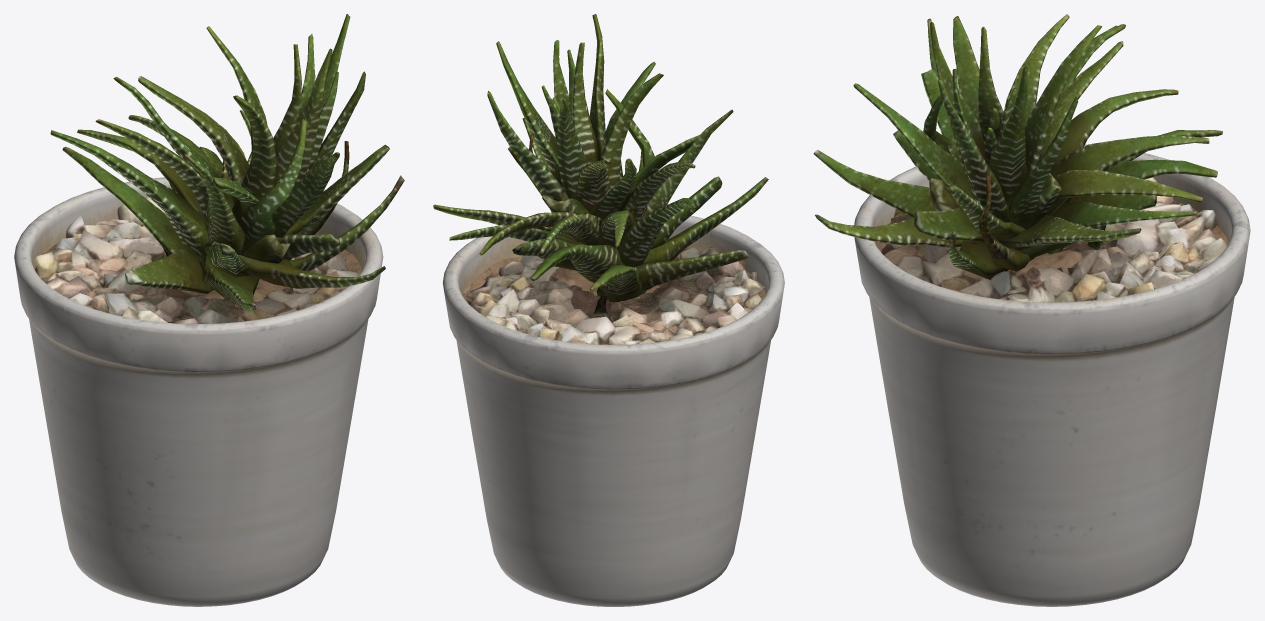
Rendered from prop_plant.glb.
The picture shows the model from 3 angles, left to right: view 1: azimuth 30°, elevation 25°; view 2: azimuth 150°, elevation 25°; view 3: azimuth 270°, elevation 25°; orthographic projection. The views are drawn at different scales.
Parts seen in each view (by area): view 1: potted_plant_04_pot, potted_plant_04_plant, potted_plant_04_ground, potted_plant_04_dirt; view 2: potted_plant_04_pot, potted_plant_04_plant, potted_plant_04_ground, potted_plant_04_dirt; view 3: potted_plant_04_pot, potted_plant_04_plant, potted_plant_04_ground, potted_plant_04_dirt.
Part boxes in pixels (x1,y1,x2,y2): potted_plant_04_pot: (14,177,383,606); potted_plant_04_plant: (50,14,404,311); potted_plant_04_ground: (34,196,357,323); potted_plant_04_dirt: (34,238,362,307); potted_plant_04_pot: (442,215,784,606); potted_plant_04_plant: (433,14,768,314); potted_plant_04_ground: (463,247,765,344); potted_plant_04_dirt: (462,247,765,306); potted_plant_04_pot: (854,144,1250,606); potted_plant_04_plant: (813,14,1222,279); potted_plant_04_ground: (881,177,1227,302); potted_plant_04_dirt: (875,200,1228,297).
Bounding box in the file's own units: 0.1679 × 0.2675 × 0.1848.
1 material, 1 textured.
